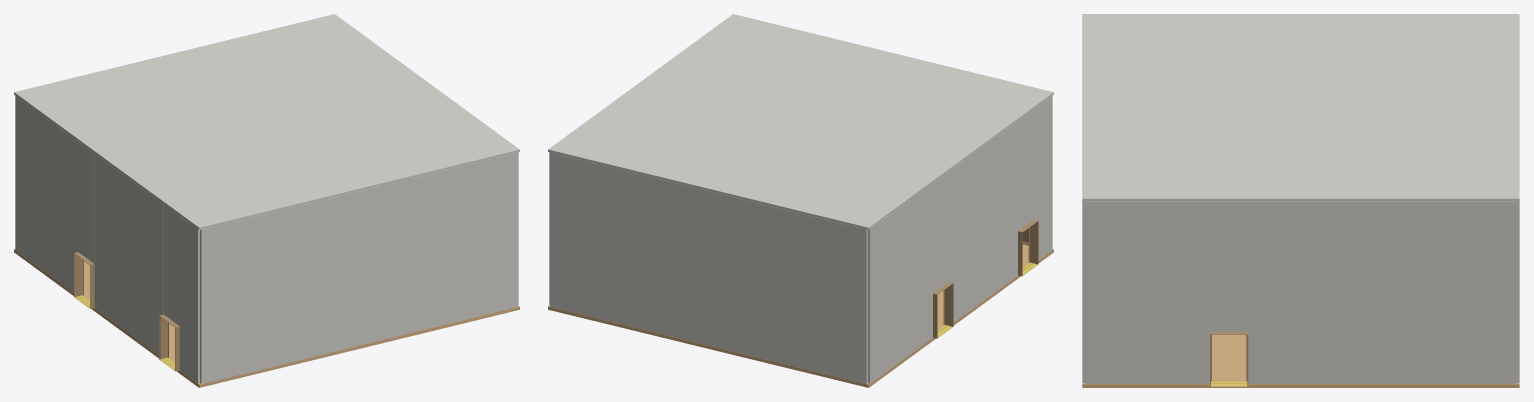
The model's file is room-atrium.b214394f.glb.
The picture shows the model from 3 angles, left to right: view 1: azimuth 30°, elevation 25°; view 2: azimuth 150°, elevation 25°; view 3: azimuth 270°, elevation 25°; orthographic projection. The views are drawn at different scales.
Visible parts, largest first — view 1: atrium__structure, atrium__ceiling, atrium__floor, atrium__trim; view 2: atrium__structure, atrium__ceiling, atrium__floor, atrium__trim; view 3: atrium__ceiling, atrium__structure, atrium__floor.
Part boxes in pixels (bbox=[...]): atrium__structure: bbox=[15, 96, 518, 383]; atrium__ceiling: bbox=[14, 14, 519, 229]; atrium__floor: bbox=[14, 249, 519, 387]; atrium__trim: bbox=[74, 252, 179, 371]; atrium__structure: bbox=[549, 96, 1052, 383]; atrium__ceiling: bbox=[548, 14, 1053, 229]; atrium__floor: bbox=[548, 244, 1053, 387]; atrium__trim: bbox=[933, 219, 1038, 338]; atrium__ceiling: bbox=[1082, 14, 1519, 201]; atrium__structure: bbox=[1082, 201, 1519, 383]; atrium__floor: bbox=[1082, 335, 1519, 387].
Size of the model in its own units: 18.75 by 8.72 by 18.25.
